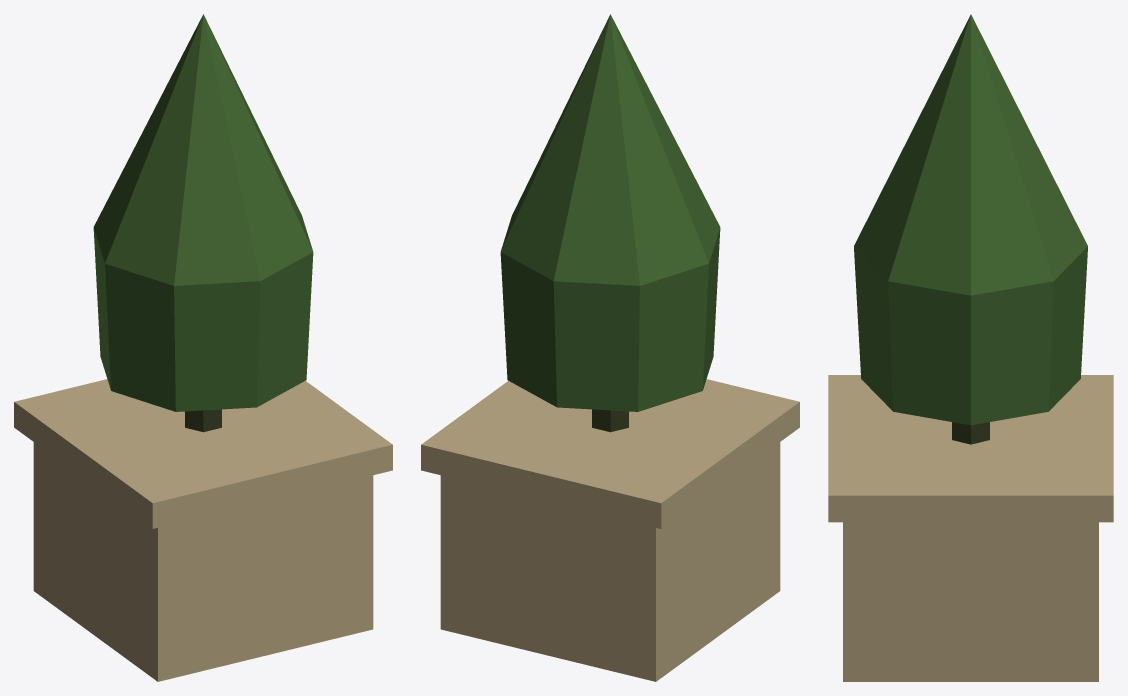
Rendered from banque_bac_arbuste.glb.
3 renders of one model, left to right at view 1: azimuth 30°, elevation 25°; view 2: azimuth 150°, elevation 25°; view 3: azimuth 270°, elevation 25°, orthographic. The views are drawn at different scales.
Parts seen in each view (by area): view 1: banque_bac_arbuste; view 2: banque_bac_arbuste; view 3: banque_bac_arbuste.
Boxes of the visible parts, x1,y1,x2,y2 form: banque_bac_arbuste: [14, 14, 392, 681]; banque_bac_arbuste: [421, 14, 799, 681]; banque_bac_arbuste: [828, 14, 1113, 681].
Size of the model in its own units: 0.78 by 1.85 by 0.78.
